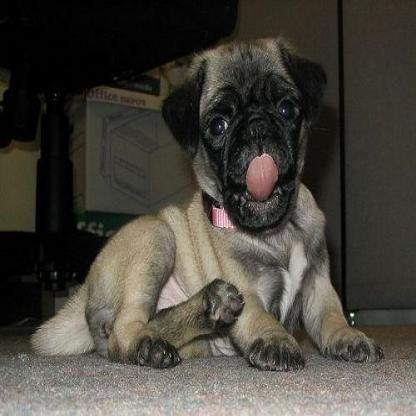pug: (20, 30, 388, 374)
